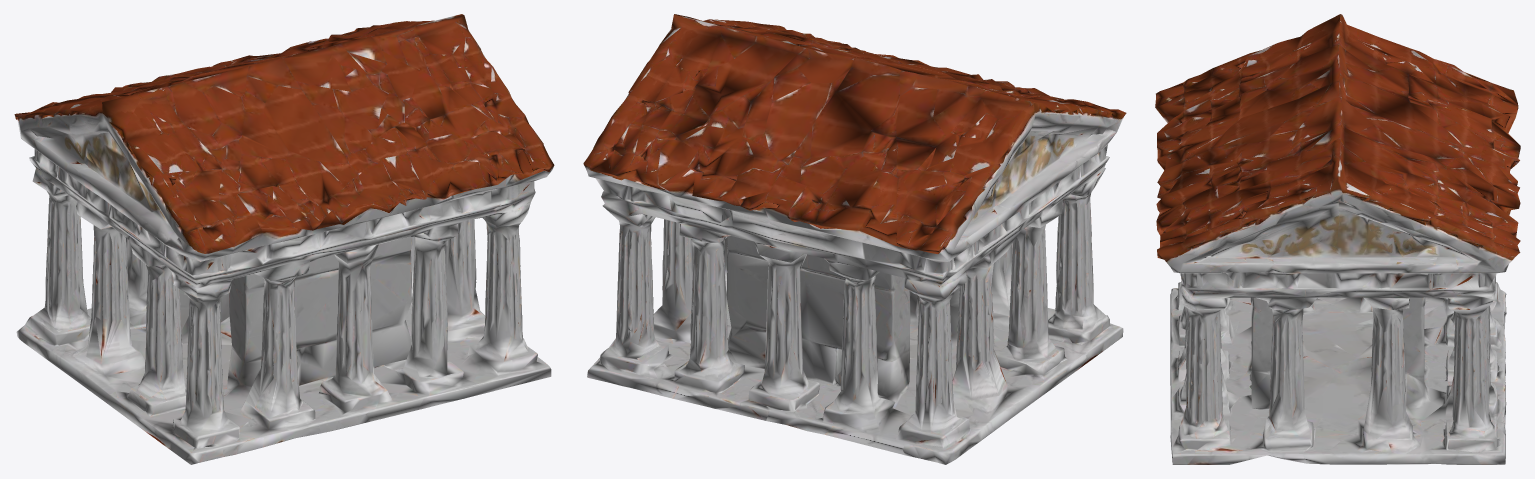
The model's file is temple.glb.
3 renders of one model, left to right at view 1: azimuth 30°, elevation 25°; view 2: azimuth 150°, elevation 25°; view 3: azimuth 270°, elevation 25°, orthographic. The views are drawn at different scales.
Bounding box in the file's own units: 1.9 × 1.5 × 1.75.
Materials: 1 (1 with a texture image).
